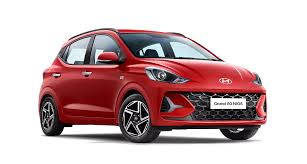car: (38, 27, 270, 144)
